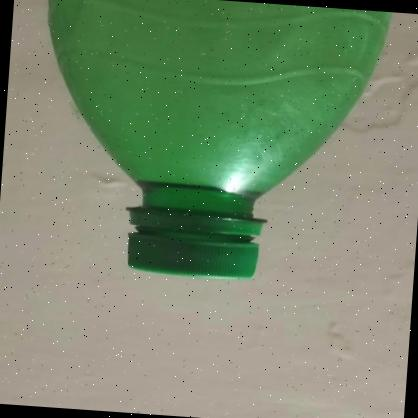cap: (127, 209, 262, 282)
